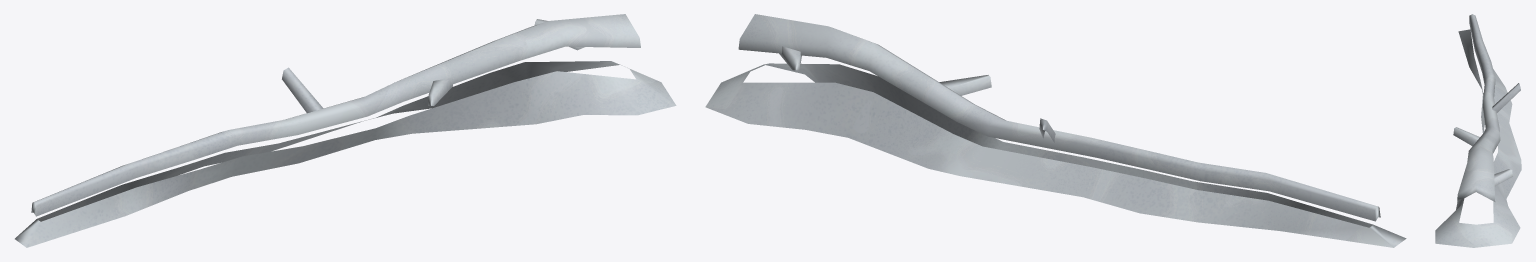
The model's file is TreeStub_3_Snow.fbx.
3 renders of one model, left to right at view 1: azimuth 30°, elevation 25°; view 2: azimuth 150°, elevation 25°; view 3: azimuth 270°, elevation 25°, orthographic. The views are drawn at different scales.
Parts seen in each view (by area): view 1: TreeStub_3_Snow; view 2: TreeStub_3_Snow; view 3: TreeStub_3_Snow.
Part boxes in pixels (left/top/right/bottom): TreeStub_3_Snow: left=15, top=14, right=676, bottom=247; TreeStub_3_Snow: left=705, top=14, right=1406, bottom=247; TreeStub_3_Snow: left=1435, top=14, right=1521, bottom=247.
Size of the model in its own units: 1610 by 200 by 272.
